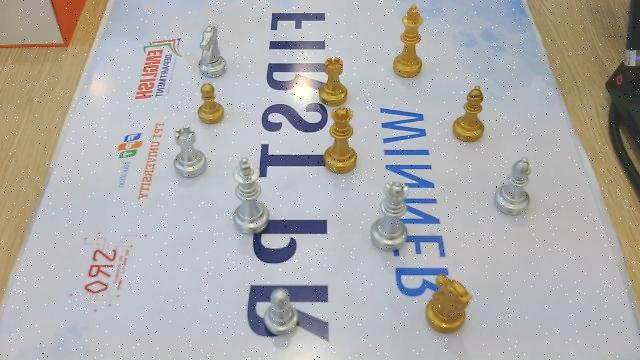black_bishop: (451, 85, 485, 142)
black_king: (392, 4, 424, 78)
black_knight: (424, 274, 472, 333)
black_pawn: (197, 84, 224, 125)
black_queen: (323, 107, 357, 173)
black_rook: (318, 57, 348, 105)
white_bishop: (494, 158, 532, 216)
white_king: (232, 158, 269, 233)
white_knight: (197, 25, 226, 78)
white_pawn: (261, 288, 299, 336)
white_queen: (371, 181, 410, 252)
white_rook: (172, 126, 205, 178)
